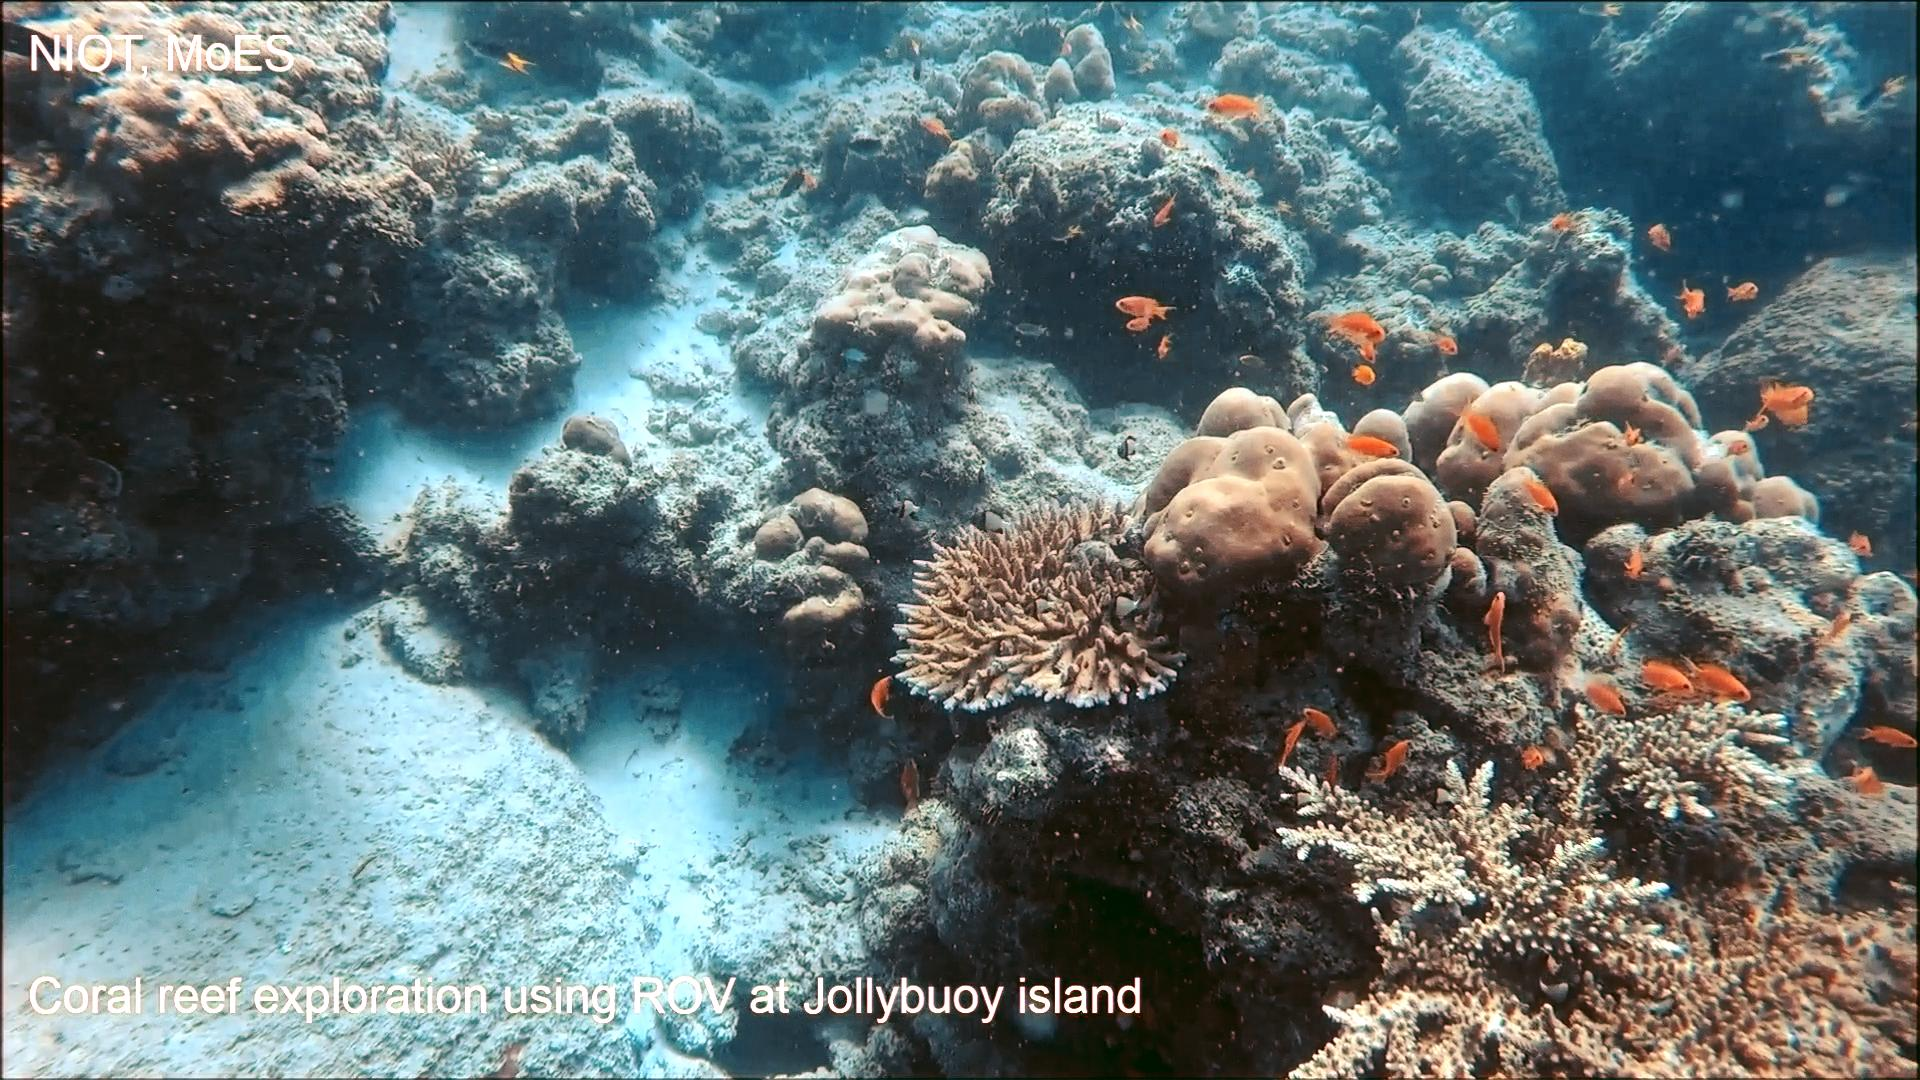Porites-Porites pukoensis: (1125, 378, 1464, 616), (1382, 352, 1826, 531)
